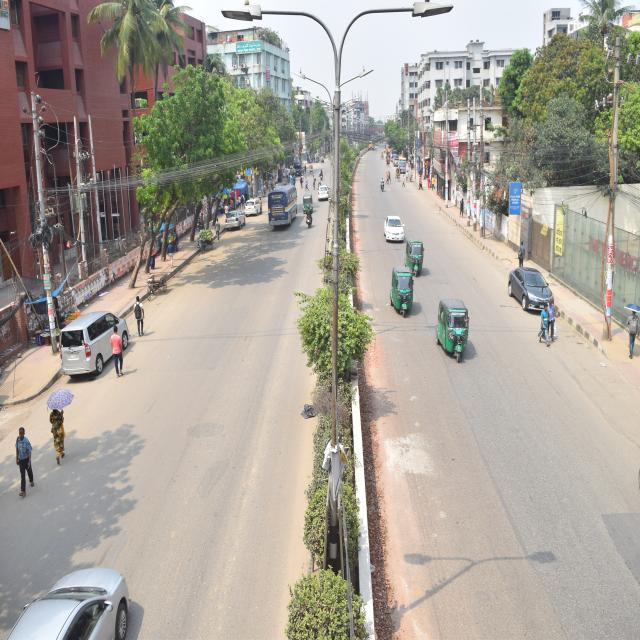bus: (258, 178, 299, 236)
car: (0, 543, 178, 640), (32, 278, 157, 388), (504, 246, 579, 351), (382, 200, 422, 269), (216, 195, 251, 253), (241, 185, 270, 226), (314, 176, 338, 214)
motorbike: (300, 197, 316, 236), (316, 161, 327, 190), (378, 175, 389, 193)
pickup-van: (396, 151, 418, 189), (294, 152, 307, 177)
